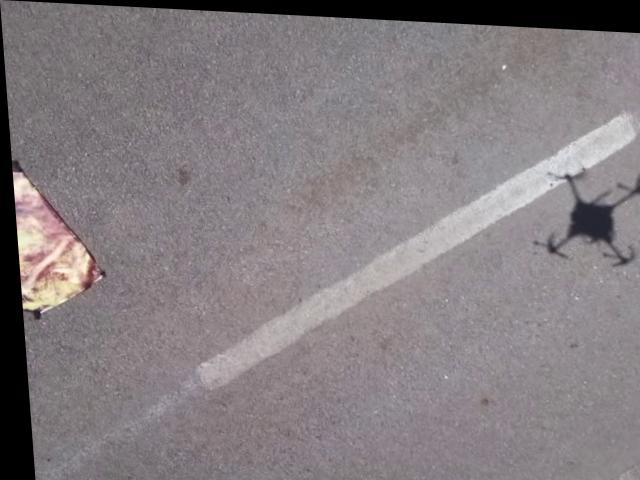fire-poster: (9, 160, 106, 326)
